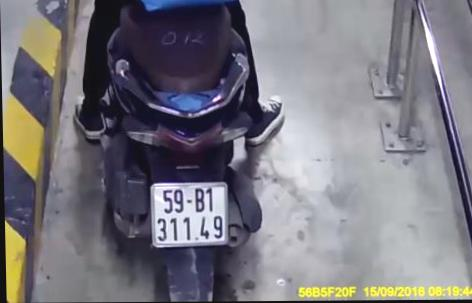License_Plate: (146, 177, 237, 250)
